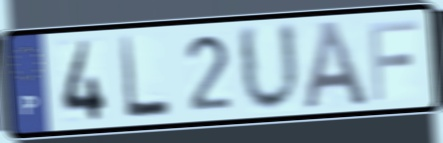2: (183, 33, 236, 114)
4: (59, 36, 110, 125)
A: (300, 17, 373, 113)
F: (366, 16, 422, 104)
L: (117, 33, 175, 122)
U: (234, 19, 305, 117)
